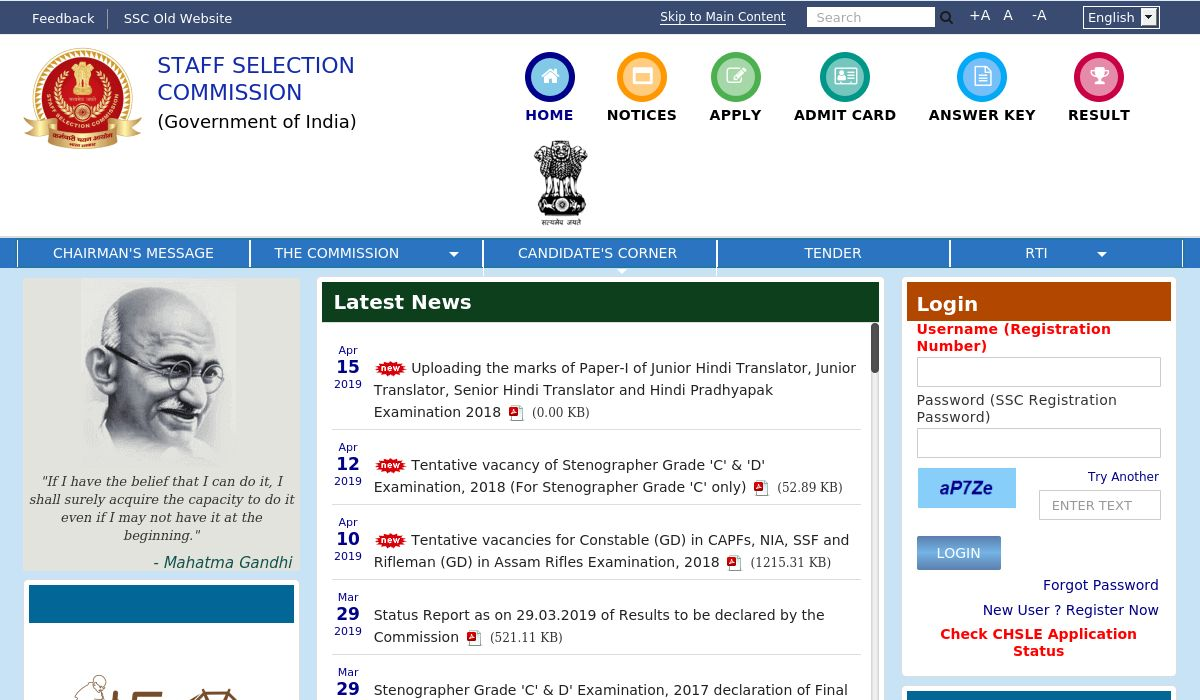menu: (1, 1, 1198, 238)
menu-button: (929, 49, 1039, 123), (794, 49, 899, 125), (1067, 49, 1132, 124), (525, 49, 574, 122), (618, 49, 667, 122), (711, 49, 760, 122), (658, 5, 790, 28), (115, 7, 238, 28), (1082, 6, 1161, 29), (23, 7, 101, 28), (971, 4, 991, 26), (998, 4, 1018, 26), (1031, 4, 1051, 26)
menu-search: (806, 5, 955, 28)
